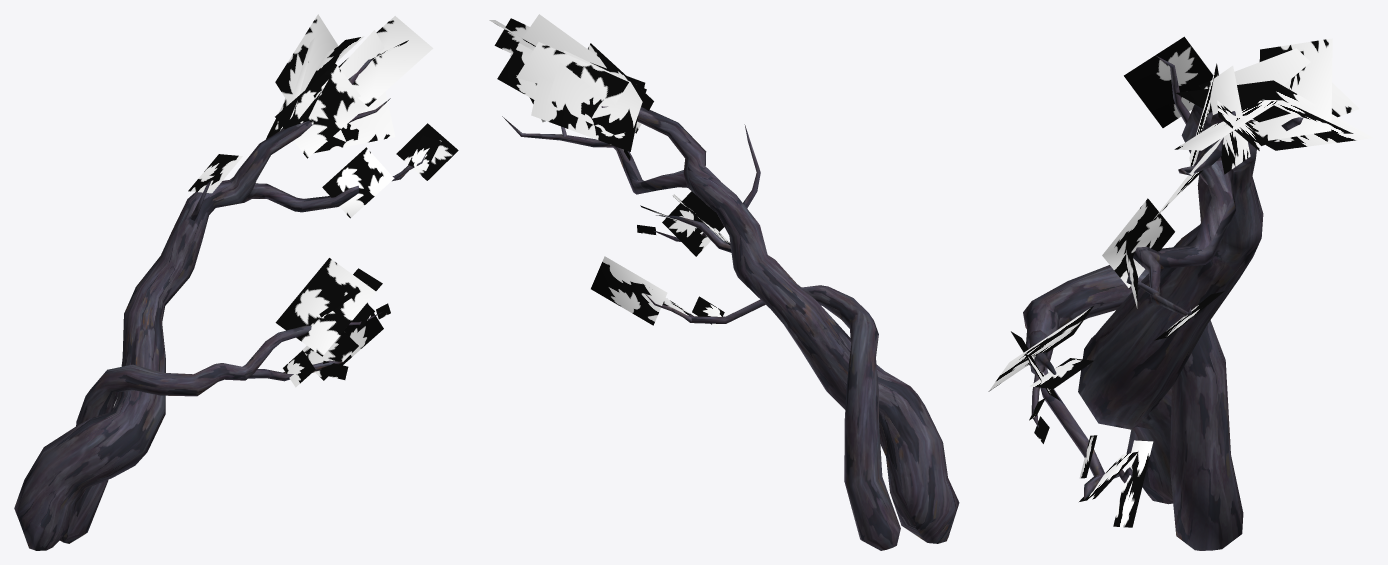
The model's file is P_TreeWindsweptSapling02.obj.
3 renders of one model, left to right at view 1: azimuth 30°, elevation 25°; view 2: azimuth 150°, elevation 25°; view 3: azimuth 270°, elevation 25°, orthographic. The views are drawn at different scales.
Bounding box in the file's own units: 7.67 × 7.21 × 3.33.
